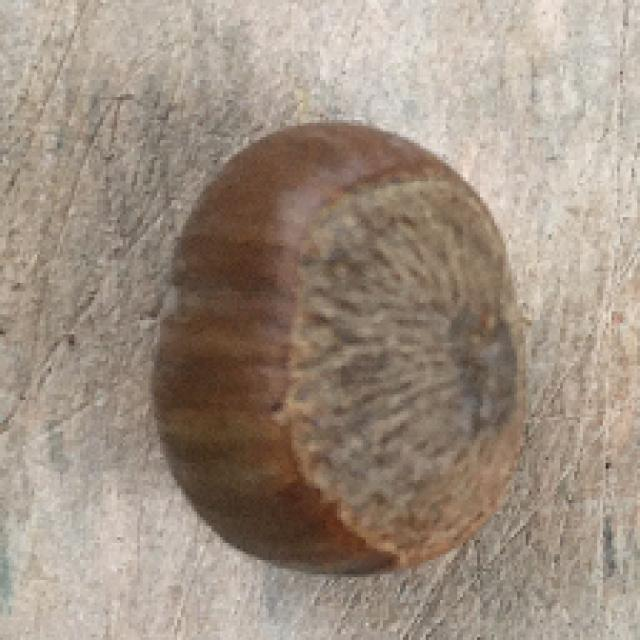damagedHazelnut: (148, 119, 540, 581)
